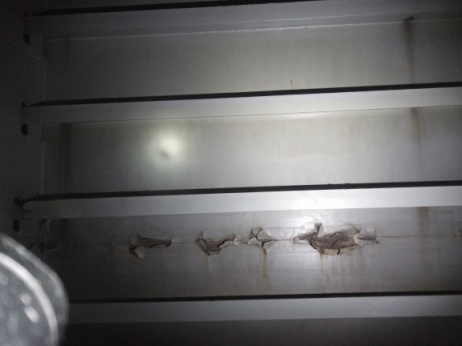corrosion: (290, 221, 387, 254), (415, 207, 440, 280), (124, 230, 173, 264), (186, 227, 235, 253), (400, 18, 421, 77), (238, 229, 281, 255), (407, 107, 427, 147)
